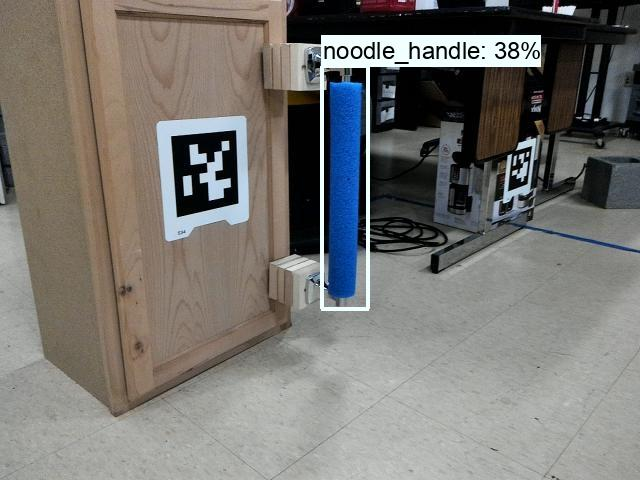noodle_handle: (322, 65, 364, 306)
